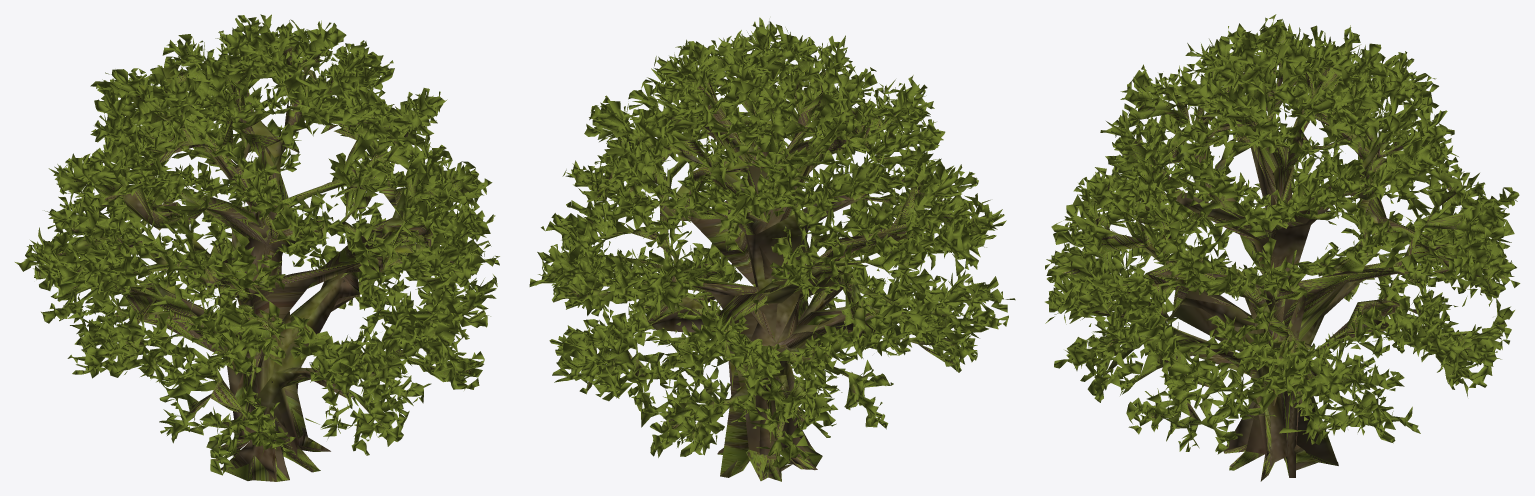
The model's file is lib_tp_soi.near.glb.
3 renders of one model, left to right at view 1: azimuth 30°, elevation 25°; view 2: azimuth 150°, elevation 25°; view 3: azimuth 270°, elevation 25°, orthographic.
Visible parts, largest first — view 1: mesh_node; view 2: mesh_node; view 3: mesh_node.
Boxes of the visible parts, bbox=[...] form: mesh_node: bbox=[15, 14, 499, 481]; mesh_node: bbox=[529, 17, 1015, 481]; mesh_node: bbox=[1045, 14, 1520, 481].
Size of the model in its own units: 1.82 by 1.75 by 1.76.
Materials: 1 (1 with a texture image).
